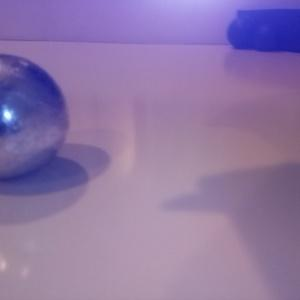alive_ball: (1, 53, 68, 180)
dead_ball: (226, 16, 257, 49), (253, 23, 277, 51)
